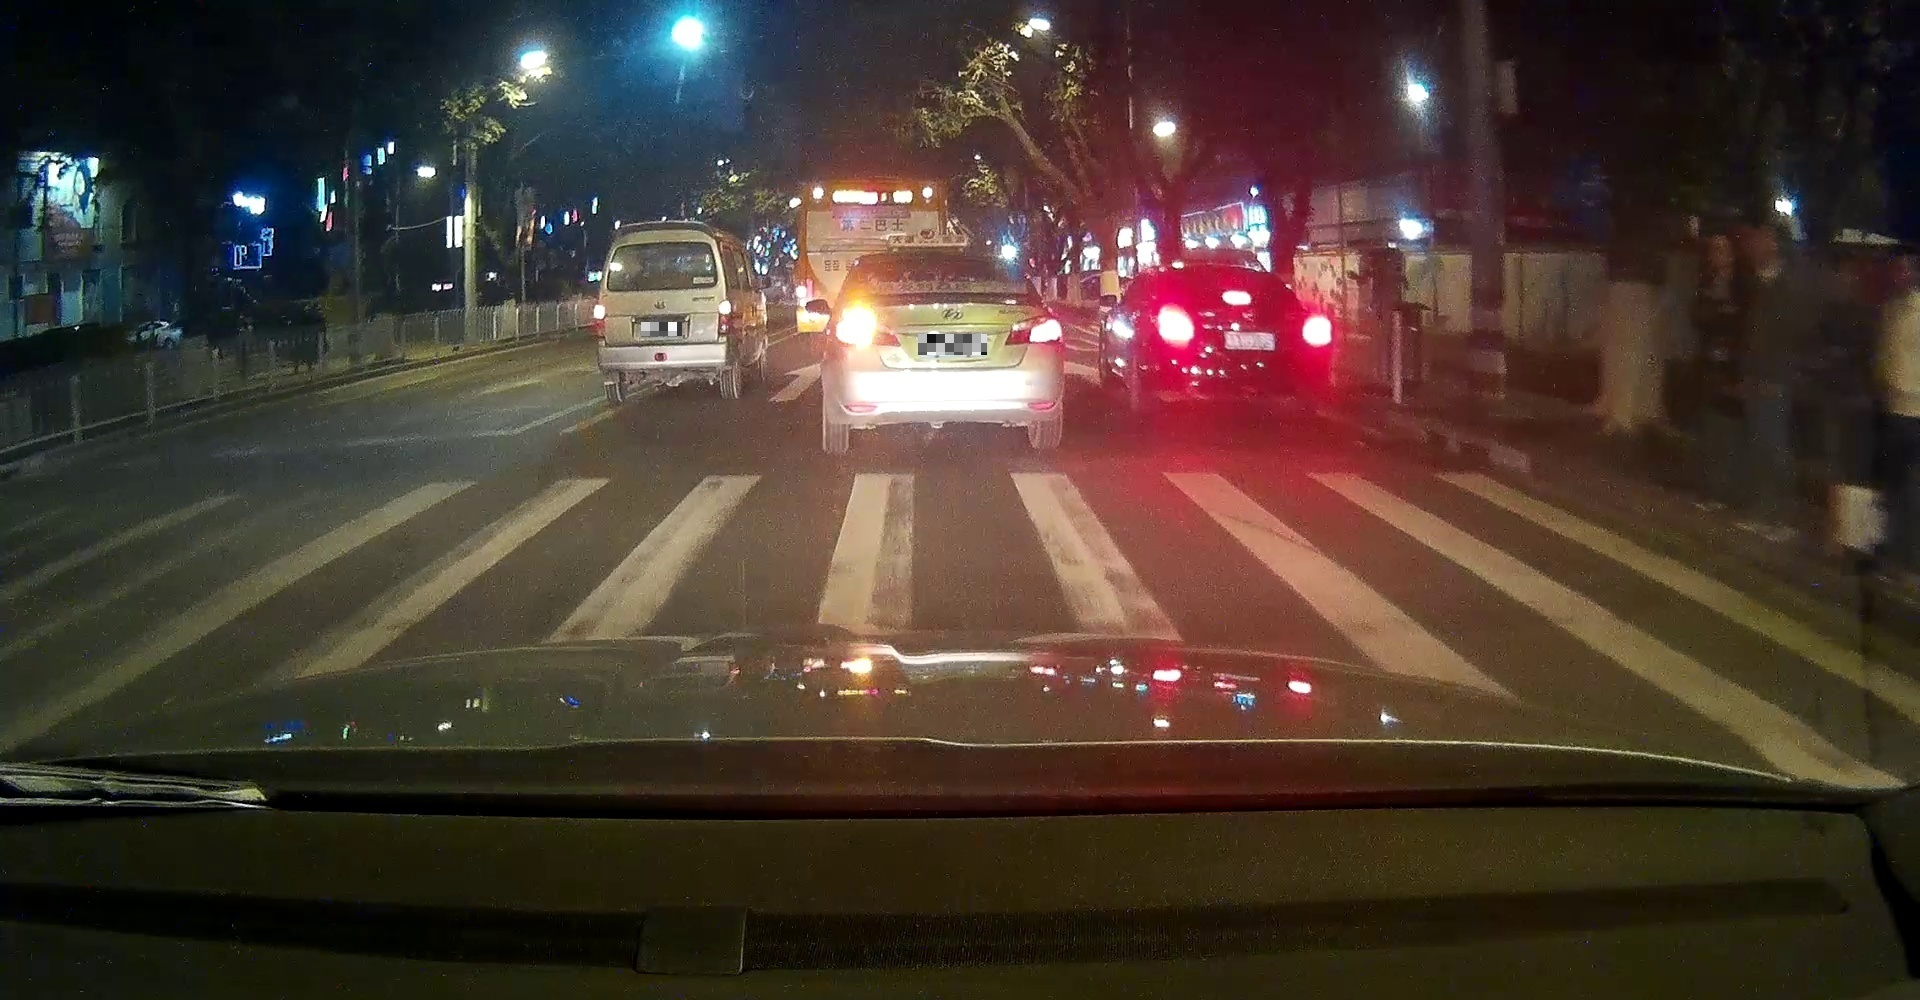L_light: (836, 299, 902, 349), (1156, 302, 1195, 346), (593, 303, 608, 334)
R_light: (1006, 313, 1065, 346), (1299, 313, 1333, 348), (717, 299, 731, 332)
T_light: (1222, 291, 1252, 305), (924, 258, 957, 266), (648, 242, 673, 251)
day-no: (592, 220, 731, 401)
night-brake: (1153, 265, 1335, 419)
night-left: (832, 254, 1065, 451)
plate_1: (641, 322, 682, 336)
plate_2: (918, 334, 987, 355)
